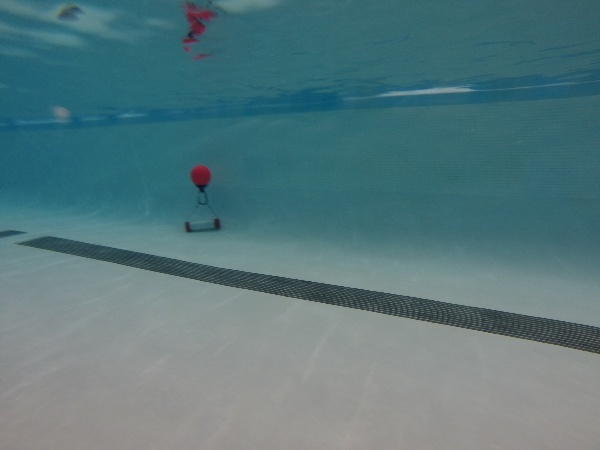buoy_red: (188, 163, 213, 194)
